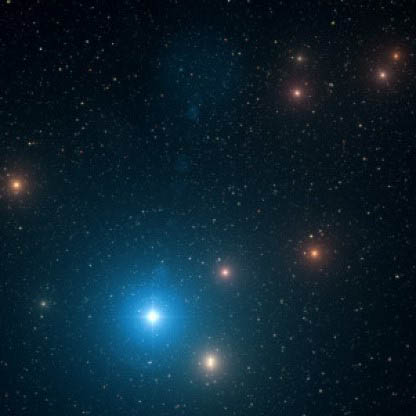Lyra: (103, 281, 178, 354), (209, 248, 245, 292), (194, 339, 231, 379), (296, 233, 331, 275), (279, 75, 310, 109), (364, 62, 394, 94)
